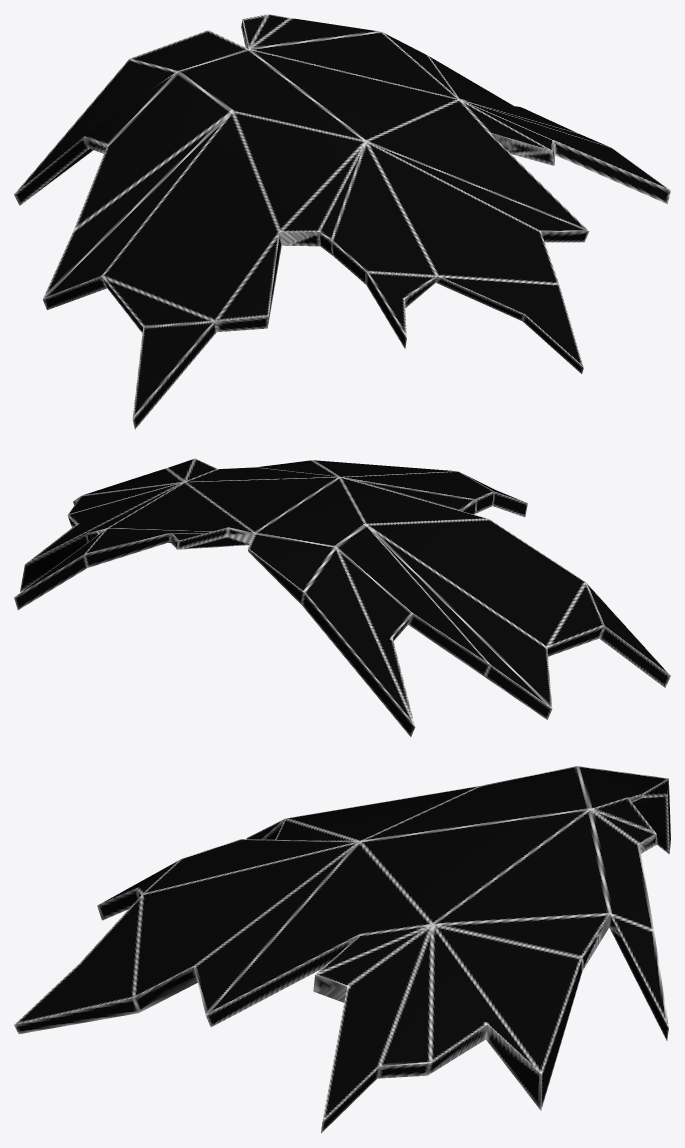
Rendered from maple-leaf.fbx.
3 renders of one model, top to bottom at view 1: azimuth 30°, elevation 25°; view 2: azimuth 150°, elevation 25°; view 3: azimuth 270°, elevation 25°, orthographic. The views are drawn at different scales.
Visible parts, largest first — view 1: maple_leaf; view 2: maple_leaf; view 3: maple_leaf.
Part boxes in pixels (bbox=[...]): maple_leaf: bbox=[14, 14, 670, 429]; maple_leaf: bbox=[14, 458, 670, 736]; maple_leaf: bbox=[14, 766, 670, 1133].
Bounding box in the file's own units: 2.69 × 0.9846 × 2.36.
Materials: 1 (1 with a texture image).
